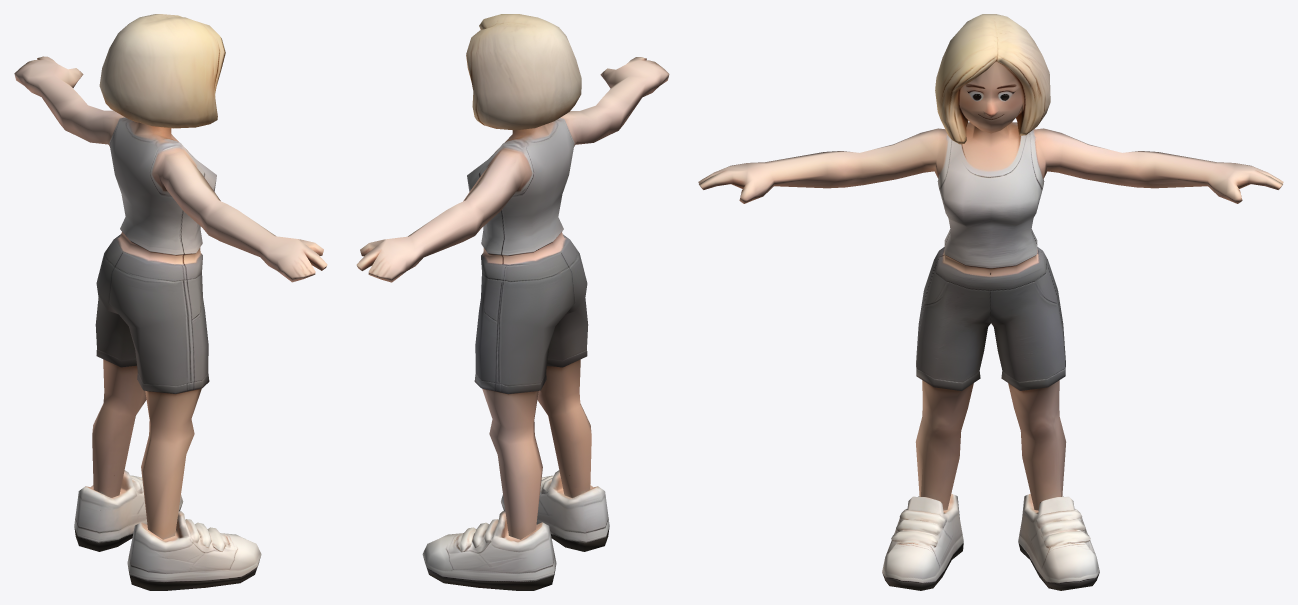
3 renders of one model, left to right at view 1: azimuth 30°, elevation 25°; view 2: azimuth 150°, elevation 25°; view 3: azimuth 270°, elevation 25°, orthographic. The views are drawn at different scales.
Visible parts, largest first — view 1: tripo_node_b7497471-ca86-4122-8885-2c23880ffd55; view 2: tripo_node_b7497471-ca86-4122-8885-2c23880ffd55; view 3: tripo_node_b7497471-ca86-4122-8885-2c23880ffd55.
Boxes of the visible parts, x1,y1,x2,y2 form: tripo_node_b7497471-ca86-4122-8885-2c23880ffd55: (14,14,327,590); tripo_node_b7497471-ca86-4122-8885-2c23880ffd55: (356,14,669,590); tripo_node_b7497471-ca86-4122-8885-2c23880ffd55: (698,14,1283,590).
Bounding box in the file's own units: 0.2241 × 0.9995 × 0.9751.
1 material, 1 textured.
